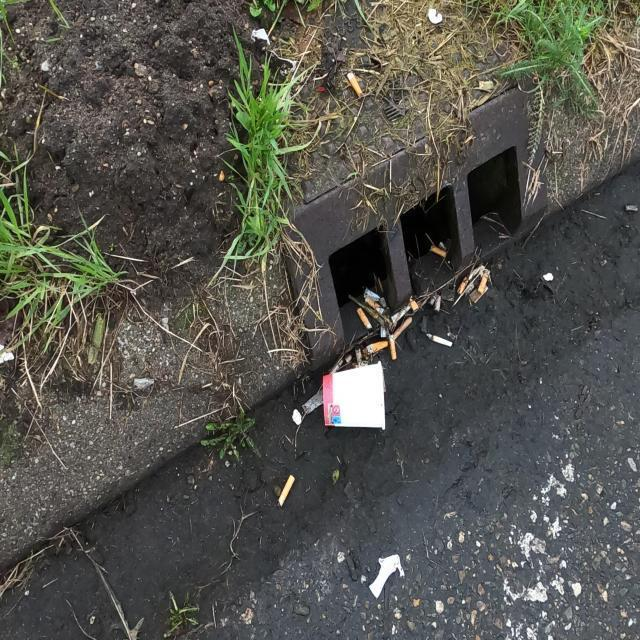Cup: (321, 359, 387, 432)
